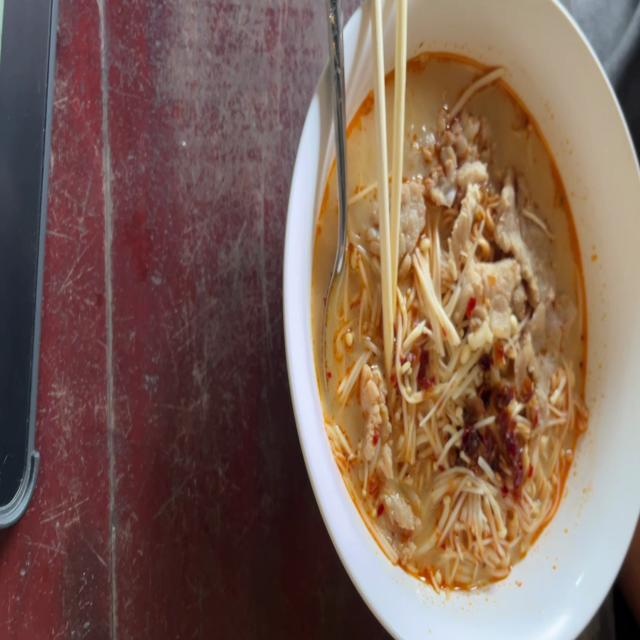noodle: (302, 40, 593, 599)
